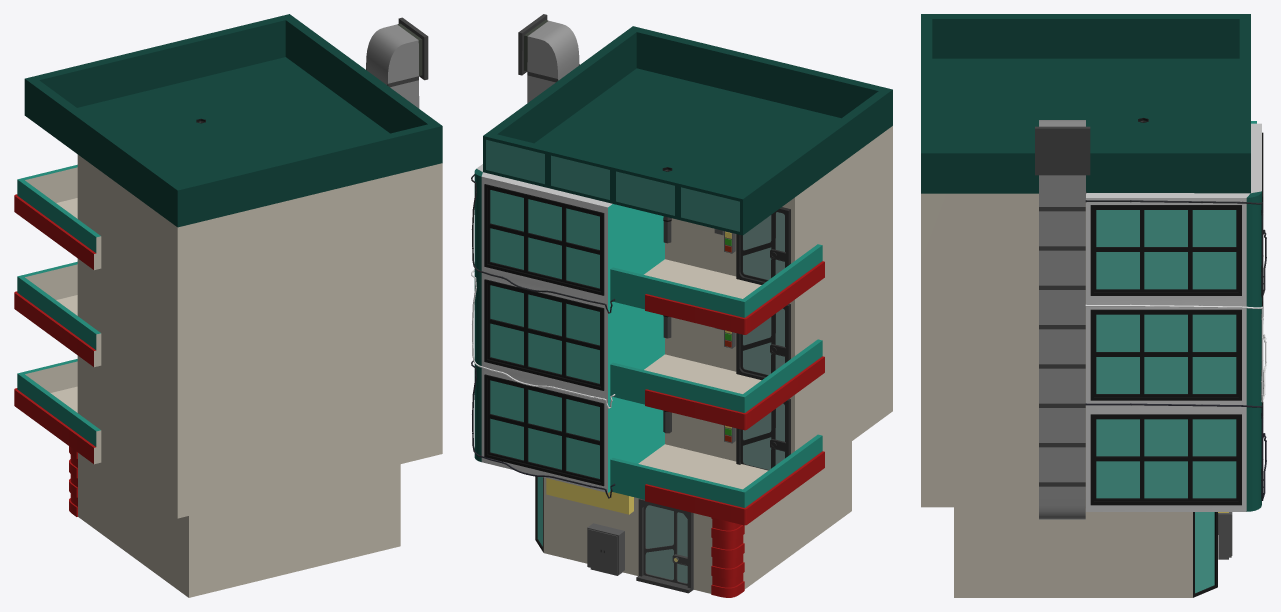
The model's file is Jonas Apartment.fbx.
3 views of the same model, side by side, from view 1: azimuth 30°, elevation 25°; view 2: azimuth 150°, elevation 25°; view 3: azimuth 270°, elevation 25° (orthographic). The views are drawn at different scales.
Visible parts, largest first — view 1: MainBody; view 2: MainBody, Main_Door, Door.003, Door.001, Door.002, Box, Electric_Thingy.003, Cube.013, Cube.011, Cube.014; view 3: MainBody, Cube.014, Cube.011, Cube.013, Box.
Part boxes in pixels (x1,y1,x2,y2): MainBody: (14,14,442,597); MainBody: (474,14,892,597); Main_Door: (636,498,693,593); Door.003: (736,207,790,284); Door.001: (736,303,790,380); Door.002: (736,398,790,470); Box: (587,523,624,575); Electric_Thingy.003: (546,478,633,514); Cube.013: (471,269,615,408); Cube.011: (471,174,615,313); Cube.014: (471,360,615,498); MainBody: (921,14,1263,597); Cube.014: (1085,403,1266,500); Cube.011: (1085,200,1266,297); Cube.013: (1085,304,1266,402); Box: (1218,512,1232,559).
Bounding box in the file's own units: 1759 × 2525 × 1573.
Materials: 16 (15 with a texture image).
